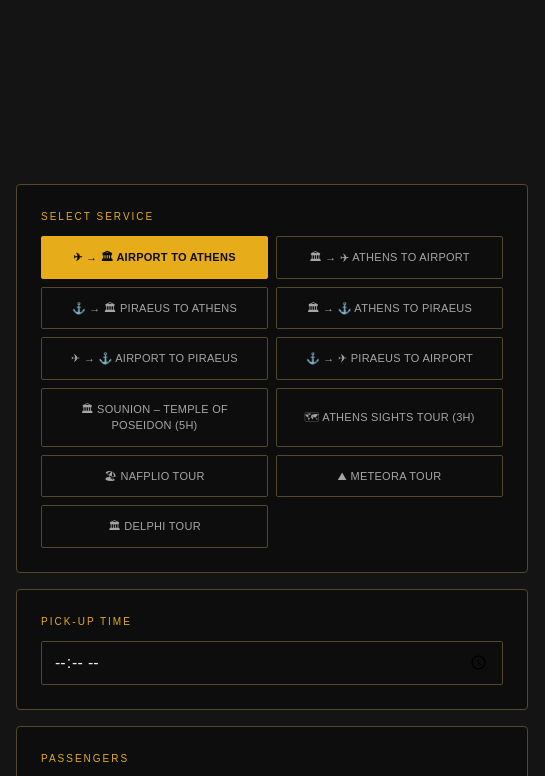
Test: unchanged calculator fares and customer-initiated email drafts › keeps the nafplio fixed fare at €500
Step 1. Click the button "🏖 Nafplio Tour" → [154, 476], box [41, 454, 268, 497]
(page scrolled)
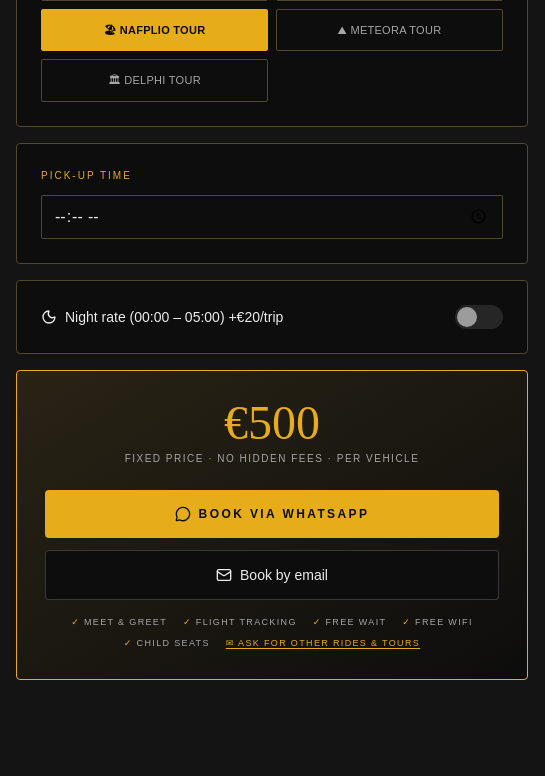
Expected: the text "€500" is shown, [224, 396, 320, 448]
